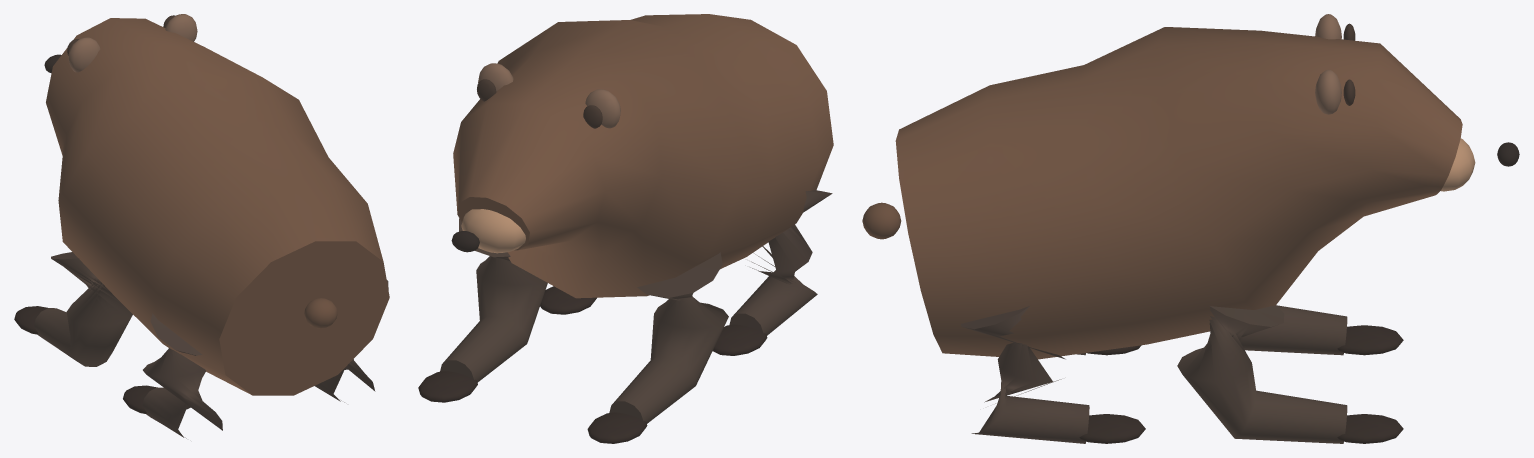
File: bear_hero.glb
3 views of the same model, side by side, from view 1: azimuth 30°, elevation 25°; view 2: azimuth 150°, elevation 25°; view 3: azimuth 270°, elevation 25° (orthographic). The views are drawn at different scales.
Visible parts, largest first — view 1: BearOrganicBody, Leg_LF, Leg_LH, TailPivot, RoundEar, Leg_RH, RoundEar2, Paw_LF, Paw_LH; view 2: BearOrganicBody, Leg_LF, Leg_RF, Leg_LH, Muzzle, Paw_RF, Paw_LF, Paw_LH, Paw_RH, RoundEar, RoundEar2, Nose; view 3: BearOrganicBody, Leg_RF, Leg_RH, Leg_LF, Paw_LF, Paw_RF, Paw_RH, TailPivot, Muzzle, RoundEar2.
Boxes of the visible parts, box(x1,y1,x2,y2) form: BearOrganicBody: box(46, 18, 389, 395); Leg_LF: box(34, 252, 132, 366); Leg_LH: box(142, 313, 222, 438); TailPivot: box(304, 298, 337, 328); RoundEar: box(68, 37, 100, 72); Leg_RH: box(315, 280, 388, 402); RoundEar2: box(165, 14, 197, 41); Paw_LF: box(14, 306, 47, 334); Paw_LH: box(123, 385, 156, 413); BearOrganicBody: box(453, 14, 833, 298); Leg_LF: box(609, 252, 728, 423); Leg_RF: box(440, 218, 547, 382); Leg_LH: box(729, 190, 832, 335); Muzzle: box(461, 209, 525, 253); Paw_RF: box(418, 371, 477, 402); Paw_LF: box(587, 412, 647, 443); Paw_LH: box(713, 324, 767, 355); Paw_RH: box(540, 286, 596, 314); RoundEar: box(585, 89, 620, 128); RoundEar2: box(478, 63, 513, 91); Nose: box(451, 231, 479, 252); BearOrganicBody: box(895, 27, 1462, 359); Leg_RF: box(1177, 305, 1347, 443); Leg_RH: box(961, 306, 1089, 443); Leg_LF: box(1239, 305, 1347, 355); Paw_LF: box(1337, 325, 1403, 355); Paw_RF: box(1337, 414, 1403, 443); Paw_RH: box(1079, 414, 1145, 443); TailPivot: box(862, 202, 901, 239); Muzzle: box(1441, 138, 1475, 191); RoundEar2: box(1315, 69, 1341, 114).
Bounding box in the file's own units: 2.73 × 3.19 × 5.35.
